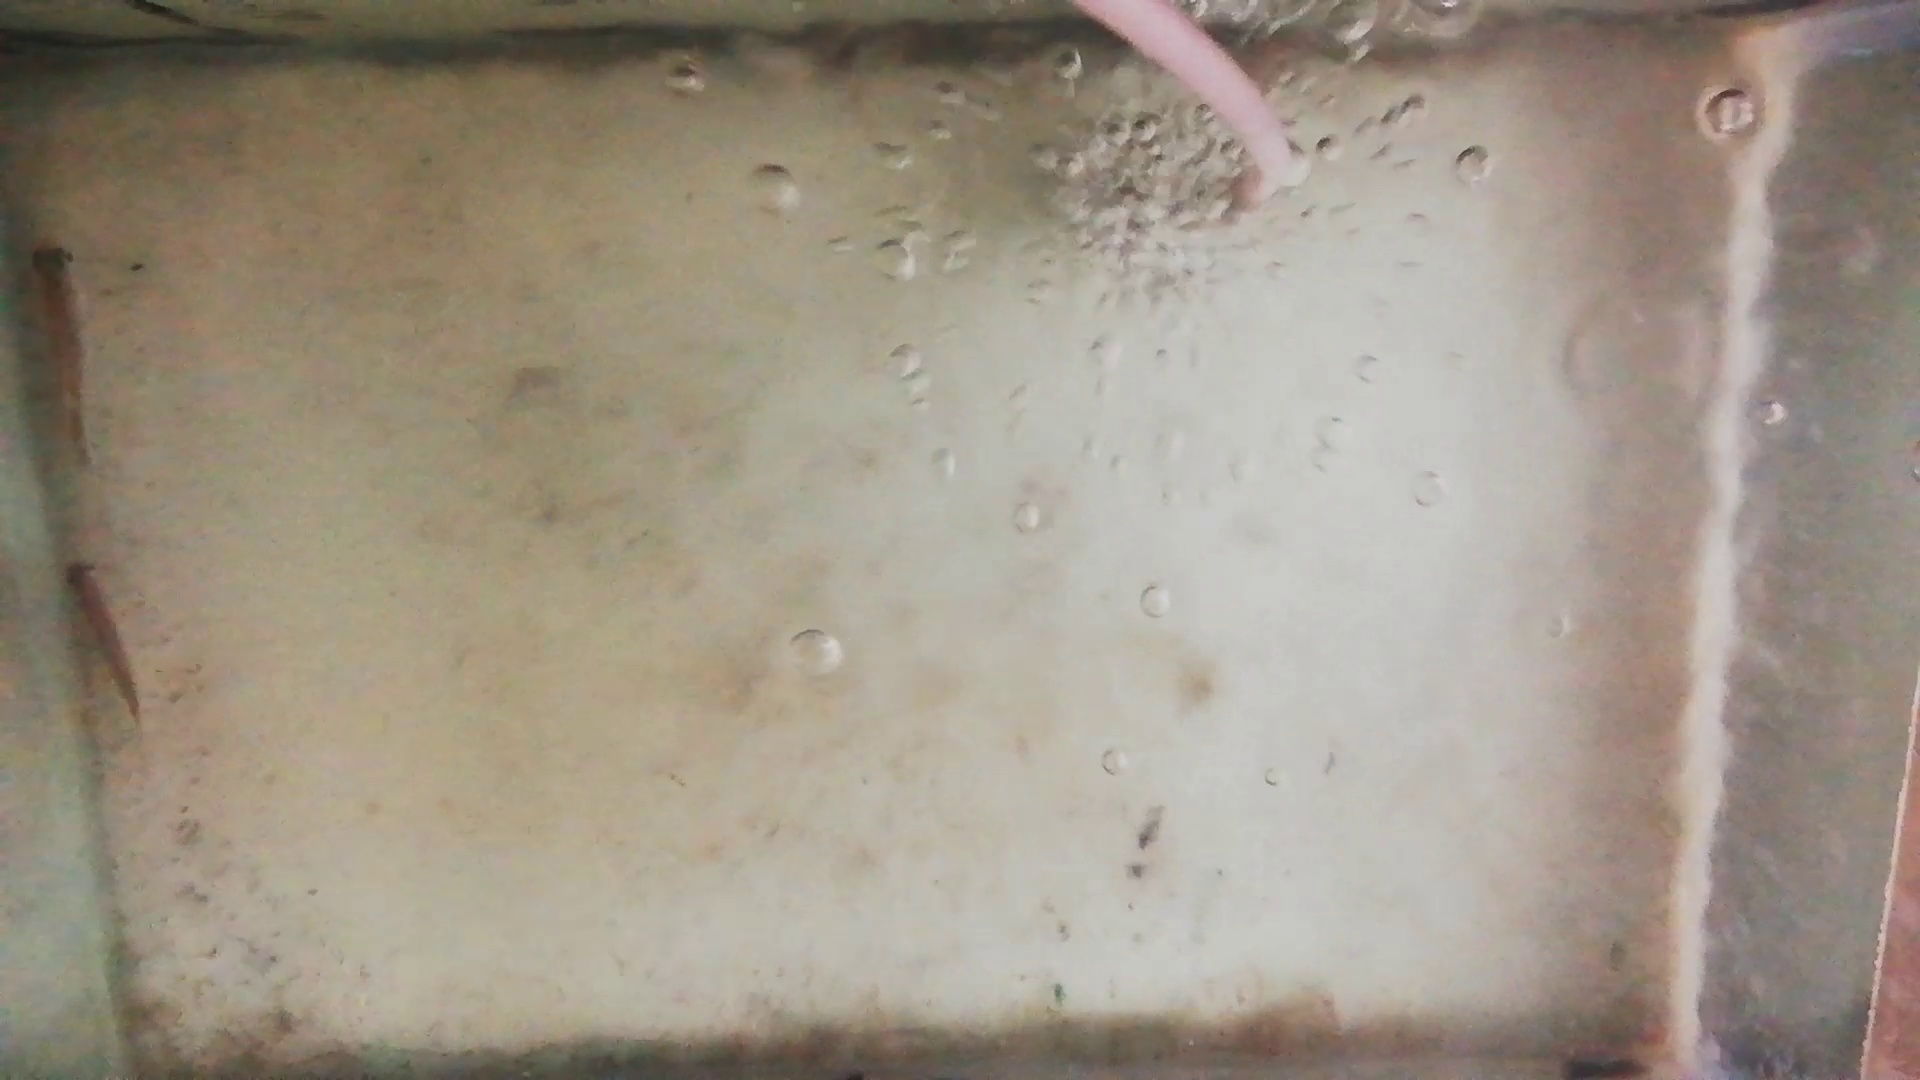fish: (58, 556, 142, 721), (32, 244, 91, 458)
